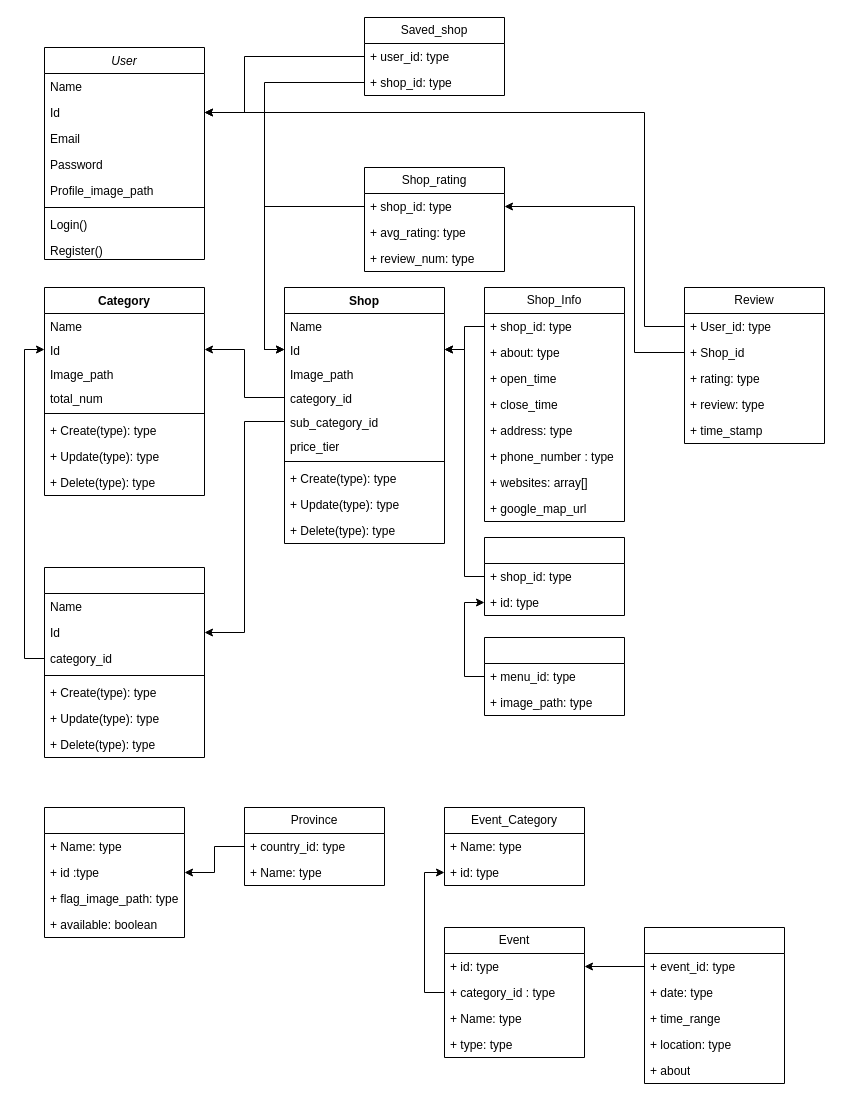
The diagram is 842 pixels wide and 1104 high, and some of its shapes have lost their labels. The shapes that lost their labels are listed below. From the top down, each one's box as (x1, y1, x2, y2) in pixels, then its label:
(484, 536, 624, 616): Menu
(44, 566, 204, 758): Sub-Category
(484, 636, 624, 716): Menu_image
(44, 806, 184, 938): Country
(644, 926, 784, 1084): Event_Info
